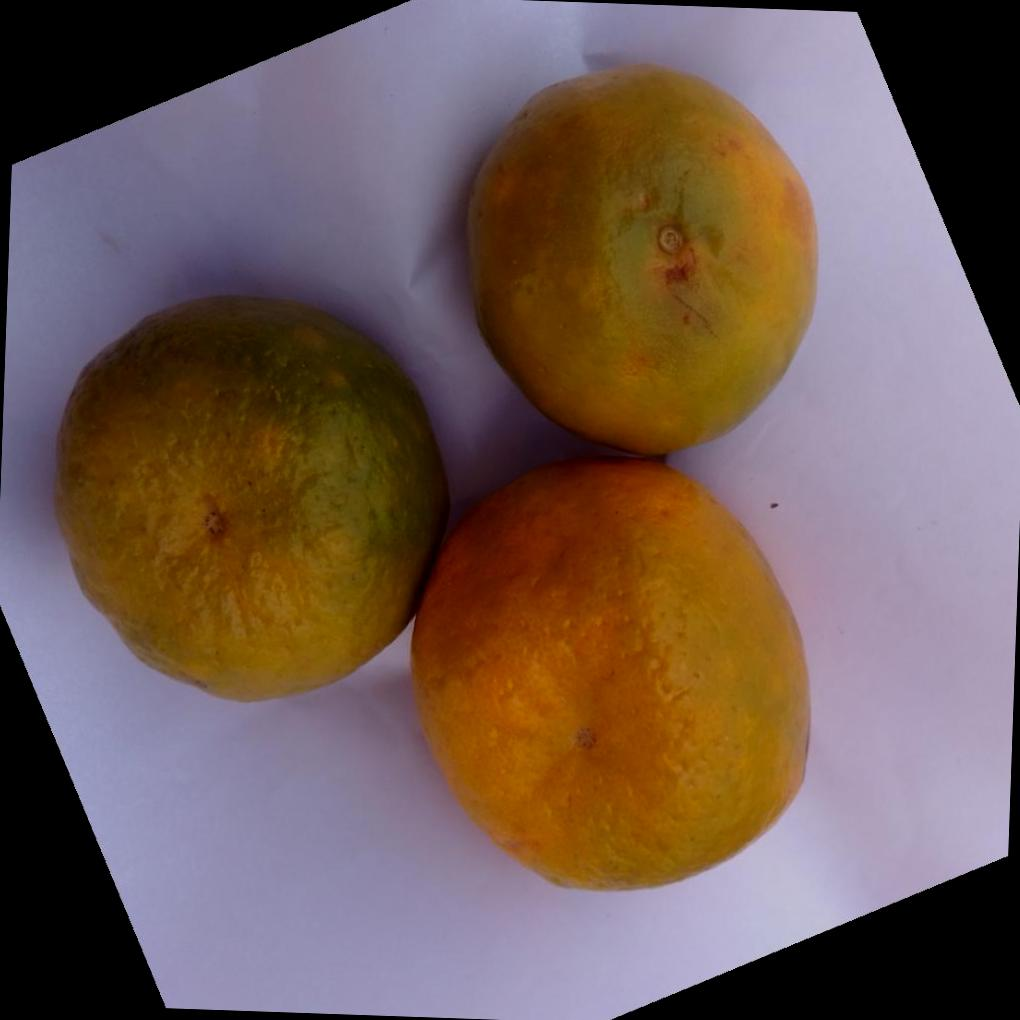FreshGuava: (99, 68, 819, 896)
